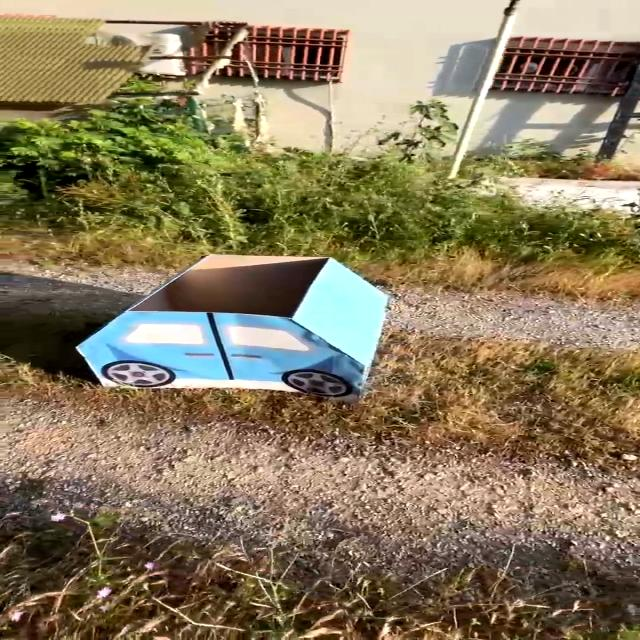blue_car: (14, 230, 466, 434)
